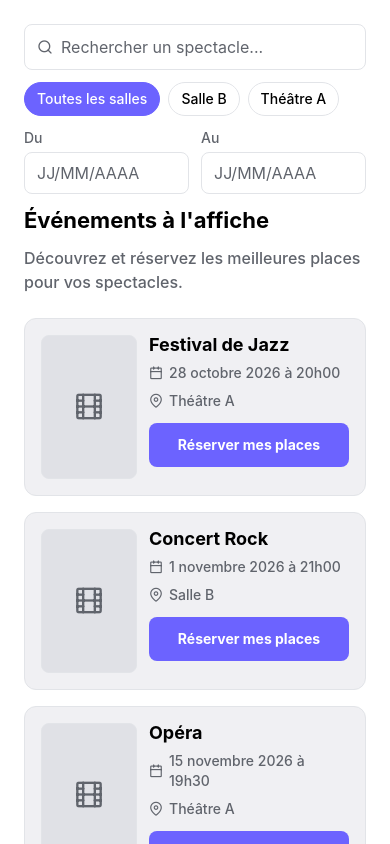
Scenario: EventsListScreen › filtres par date et par lieu (#21) › ne filtre pas sur une date invalide et le signale
Type "31/02/2026" into the field named "Du". click: (106, 173)
box: 24,152 -> 189,194
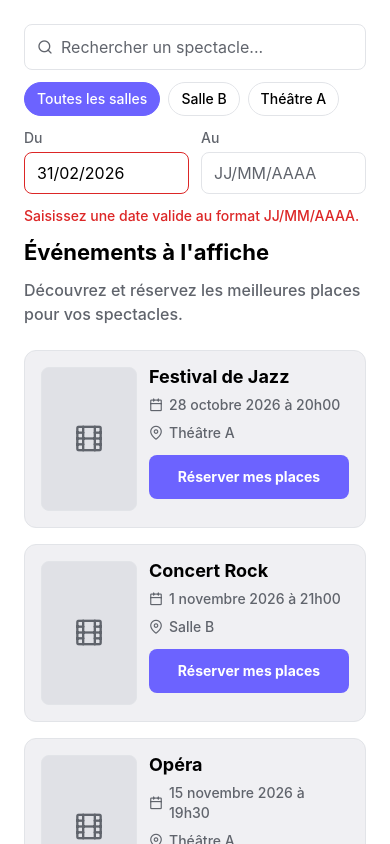
Expected: the text "Festival de Jazz" is shown, 149,366 -> 290,387
Now the text "Saisissez une date valide au format JJ/MM/AAAA." is shown, box 24,206 -> 366,226
